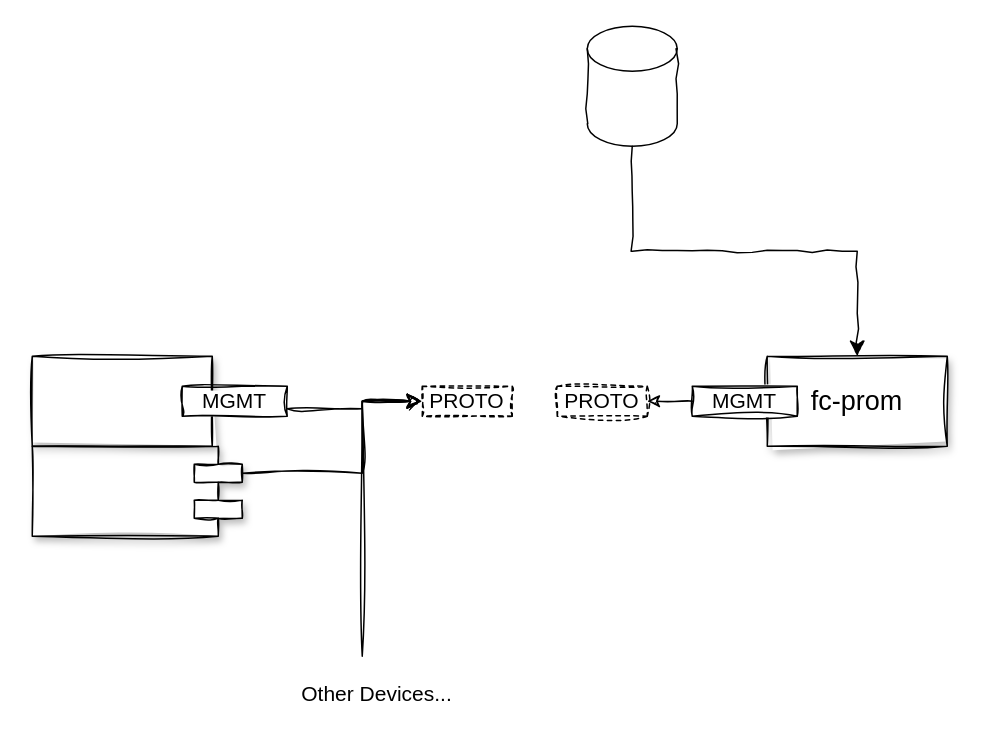
Image size: 983x743. Some labels were removed from this diagram. The centre of each missing label's shape, as x and y in pixels:
"Other..." goes at (x=138, y=493).
"Prometheus" goes at (x=631, y=85).
"Your App" goes at (x=123, y=403).
